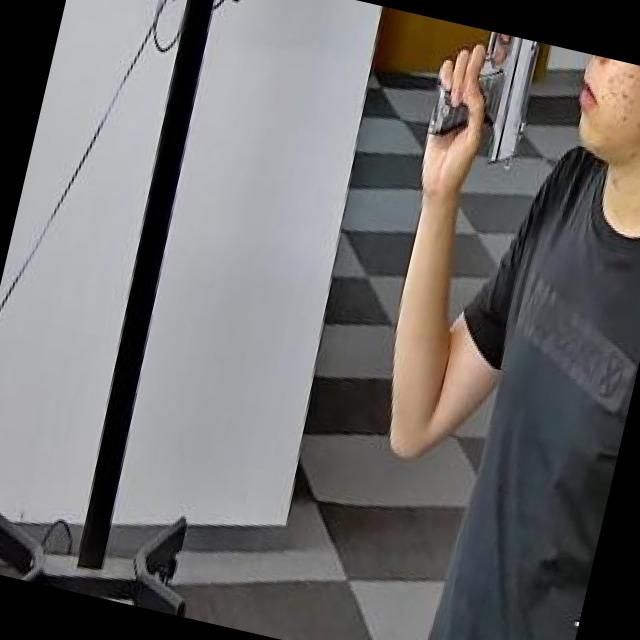Guns: (390, 17, 564, 229)
